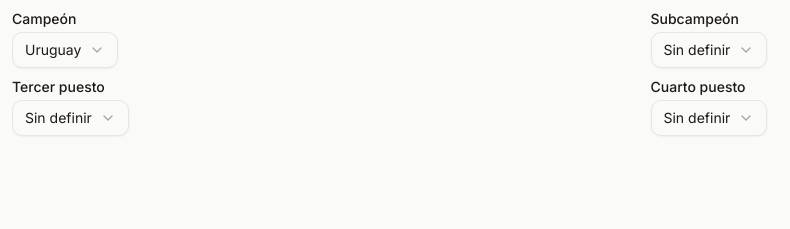
Test case: PodiumPicker › excludes a team already picked in another spot
Open the runner-up select (second combobox).
What coordinates should you click on to do the following:
click the dropdown labelled "Sin definir" below "Subcampeón"
I would click on:
 (709, 50)
Its box is [650,32,767,68].
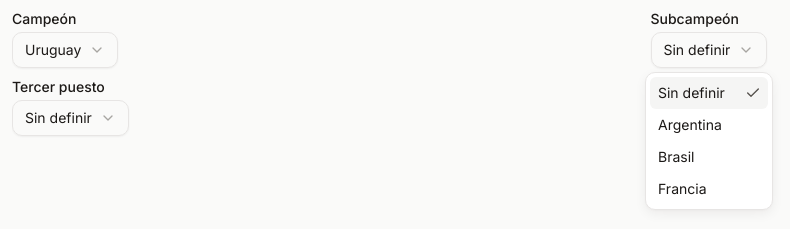
Expected: the option does not show "Uruguay"
Now the text "Argentina" is shown, box [658,115,722,135]
Now the text "Brasil" is shown, box [658,147,694,167]
